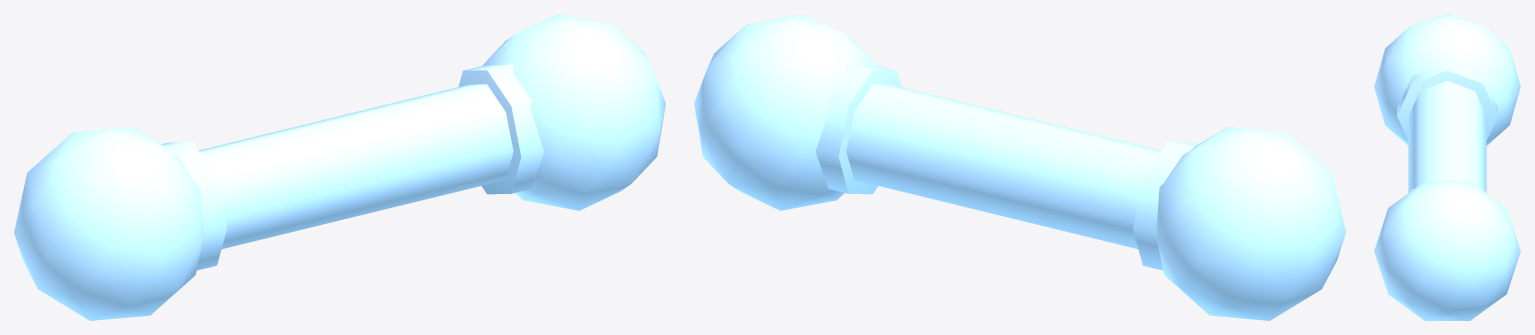
The model's file is steel_guard_045.glb.
3 views of the same model, side by side, from view 1: azimuth 30°, elevation 25°; view 2: azimuth 150°, elevation 25°; view 3: azimuth 270°, elevation 25° (orthographic). The views are drawn at different scales.
Parts seen in each view (by area): view 1: steel_guard_045; view 2: steel_guard_045; view 3: steel_guard_045.
Part boxes in pixels (x1,y1,x2,y2): steel_guard_045: (14, 14, 665, 320); steel_guard_045: (694, 14, 1345, 320); steel_guard_045: (1374, 14, 1520, 320).
Bounding box in the file's own units: 7.5 × 2.08 × 2.08.
1 material, 1 textured.
